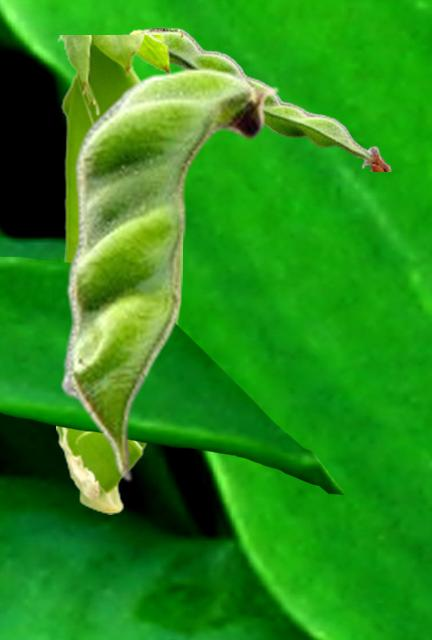pea: (59, 67, 279, 481), (56, 35, 181, 513), (116, 27, 391, 170)
